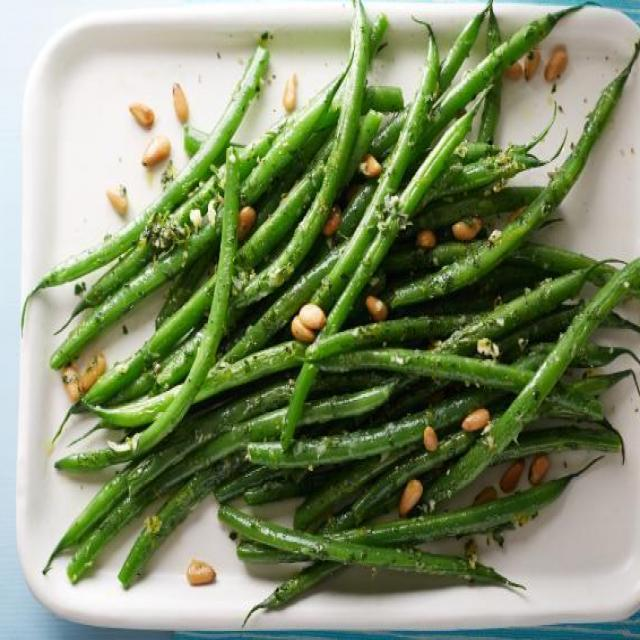Beans: (28, 10, 639, 607)
